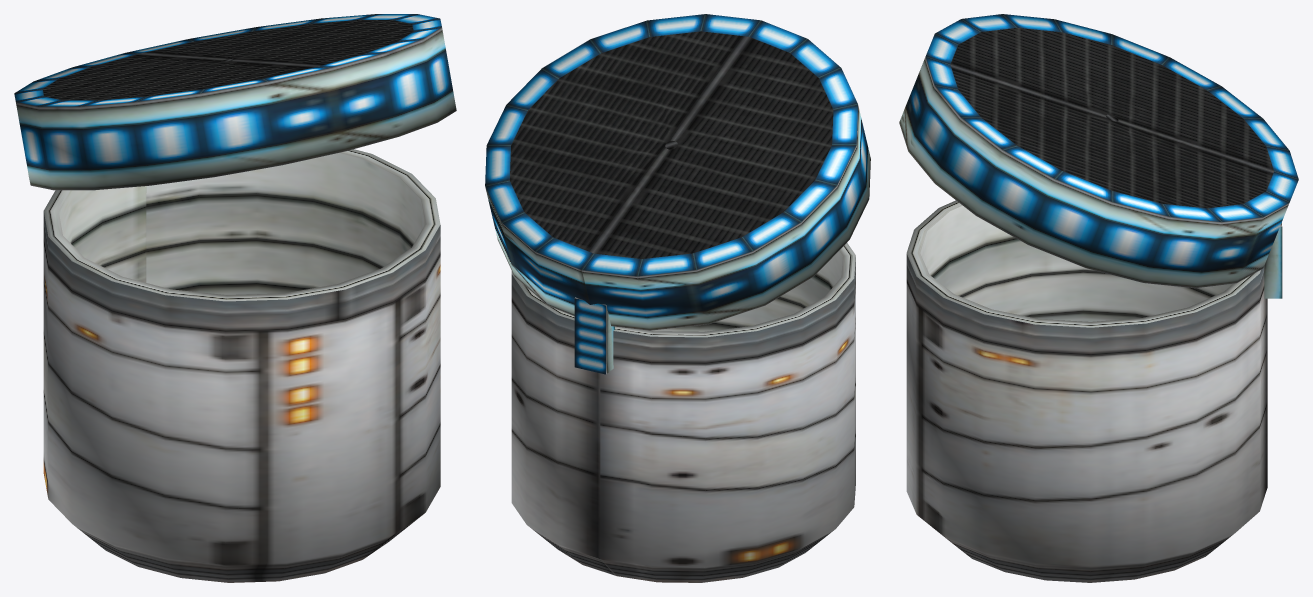
Rendered from redondoanimado.fbx.
The picture shows the model from 3 angles, left to right: view 1: azimuth 30°, elevation 25°; view 2: azimuth 150°, elevation 25°; view 3: azimuth 270°, elevation 25°; orthographic projection. The views are drawn at different scales.
Visible parts, largest first — view 1: Cylinder.002, Cylinder.003_Cylinder.004; view 2: Cylinder.003_Cylinder.004, Cylinder.002; view 3: Cylinder.002, Cylinder.003_Cylinder.004.
Part boxes in pixels (x1,y1,x2,y2): Cylinder.002: (43,149,440,582); Cylinder.003_Cylinder.004: (14,14,456,190); Cylinder.003_Cylinder.004: (485,14,870,330); Cylinder.002: (511,243,855,582); Cylinder.002: (906,200,1282,582); Cylinder.003_Cylinder.004: (899,14,1298,288).
Size of the model in its own units: 1.07 by 1.39 by 1.08.
